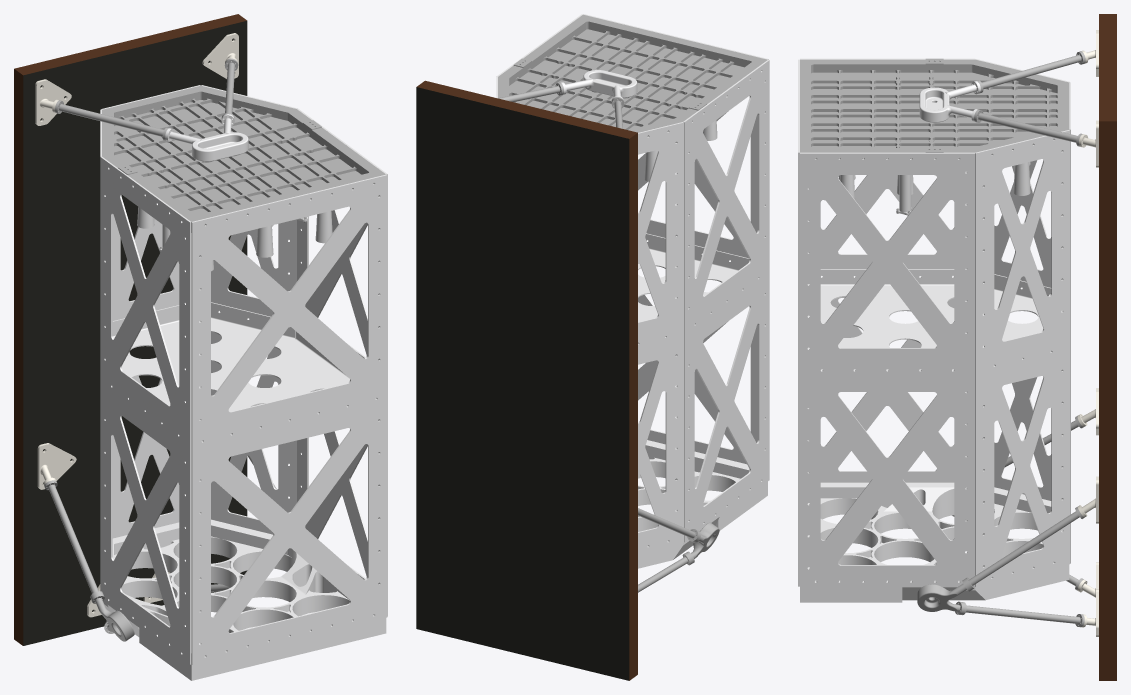
Rendered from Instrument.source-colors.glb.
3 renders of one model, left to right at view 1: azimuth 30°, elevation 25°; view 2: azimuth 150°, elevation 25°; view 3: azimuth 270°, elevation 25°, orthographic. The views are drawn at different scales.
Visible parts, largest first — view 1: Sandwich panel:1, Top Side Panel:1, Upper Side Panel:1, =>[0:1:1:85], Six_OB_B:1, middle rib:1, Lower Side Panel:2, Upper Side Panel:2, Bottom Side Panel:1, back fitting:1, Left back foot:1, Back Feet:2 (+4 smaller); view 2: Sandwich panel:1, Upper Side Panel:1, =>[0:1:1:85], Lower Side Panel:1, Top Side Panel:1, Six_OB_B:1, middle rib:1, back fitting:1, left fitting:1, Back OBA rod:2; view 3: Upper Side Panel:2, Lower Side Panel:2, =>[0:1:1:85], Sandwich panel:1, Six_OB_B:1, Upper Side Panel:1, middle rib:1, Lower Side Panel:1, back fitting:1, right fitting:1, Back OBA rod:1, Top Side Panel:1 (+6 smaller).
Part boxes in pixels (x1,y1,x2,y2): Sandwich panel:1: (14,14,247,645); Top Side Panel:1: (191,174,387,664); Upper Side Panel:1: (100,156,191,664); =>[0:1:1:85]: (102,85,385,232); Six_OB_B:1: (103,519,386,680); middle rib:1: (112,302,376,441); Lower Side Panel:2: (201,85,297,534); Upper Side Panel:2: (297,108,387,616); Bottom Side Panel:1: (101,85,200,538); back fitting:1: (165,114,248,161); Left back foot:1: (37,443,76,489); Back Feet:2: (35,79,71,125); Sandwich panel:1: (416,80,637,680); Upper Side Panel:1: (683,60,769,542); =>[0:1:1:85]: (498,14,767,136); Lower Side Panel:1: (638,122,683,553); Top Side Panel:1: (583,14,768,464); Six_OB_B:1: (638,440,767,568); middle rib:1: (638,233,749,343); back fitting:1: (560,70,637,101); left fitting:1: (686,522,719,563); Back OBA rod:2: (638,508,699,541); Upper Side Panel:2: (800,152,975,587); Lower Side Panel:2: (975,130,1069,586); =>[0:1:1:85]: (800,58,1069,159); Sandwich panel:1: (1099,14,1116,680); Six_OB_B:1: (800,482,1069,602); Upper Side Panel:1: (800,58,975,482); middle rib:1: (807,269,1062,370); Lower Side Panel:1: (975,59,1069,500); back fitting:1: (919,81,980,122); right fitting:1: (917,579,971,614); Back OBA rod:1: (964,507,1084,589); Top Side Panel:1: (798,59,799,586).
Bounding box in the file's own units: 0.4264 × 1.04 × 0.535.
